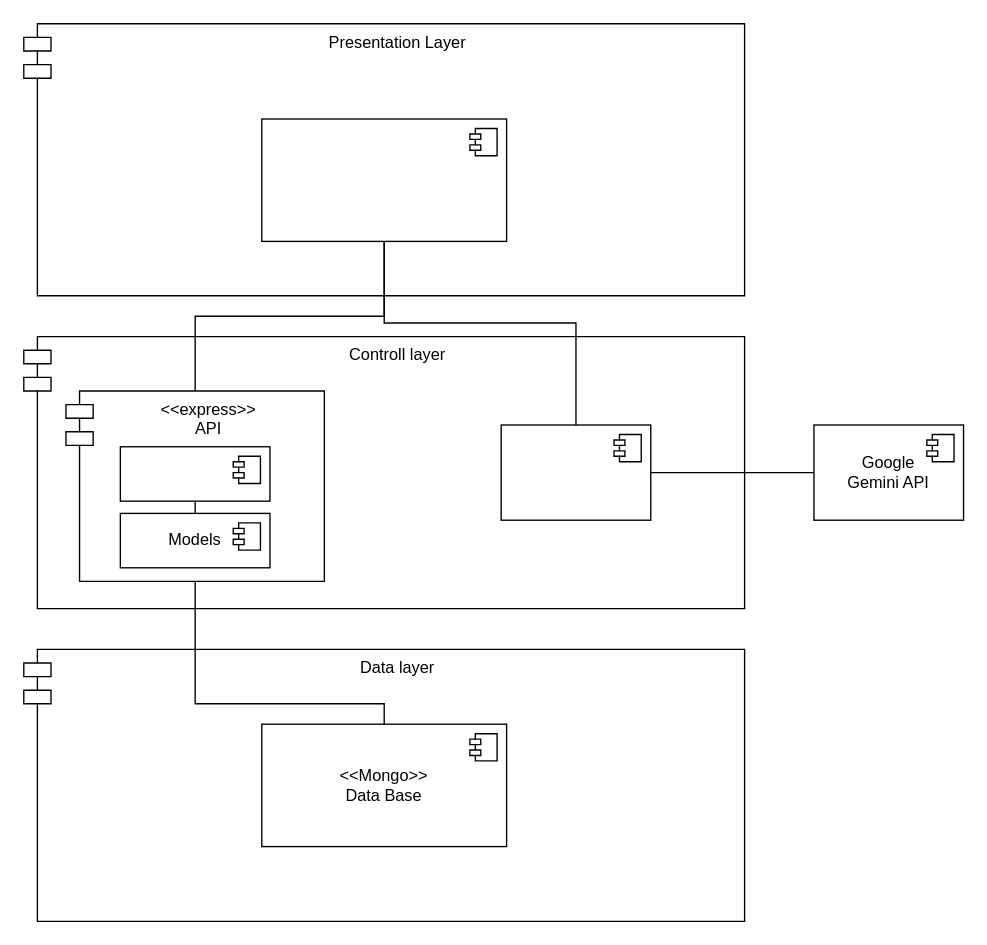
Some shapes in this 987 by 945 pixel diagram are drawn without their labels. The centre of each missing label's shape, as x and y in pixels:
<<flask>> Insights Backedn: the point at 575,472
<<React>> Frontend: the point at 383,179
Routes: the point at 194,473
